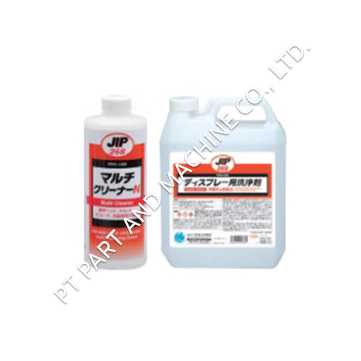Cleaning_solution: (156, 91, 288, 273), (77, 91, 152, 273)
